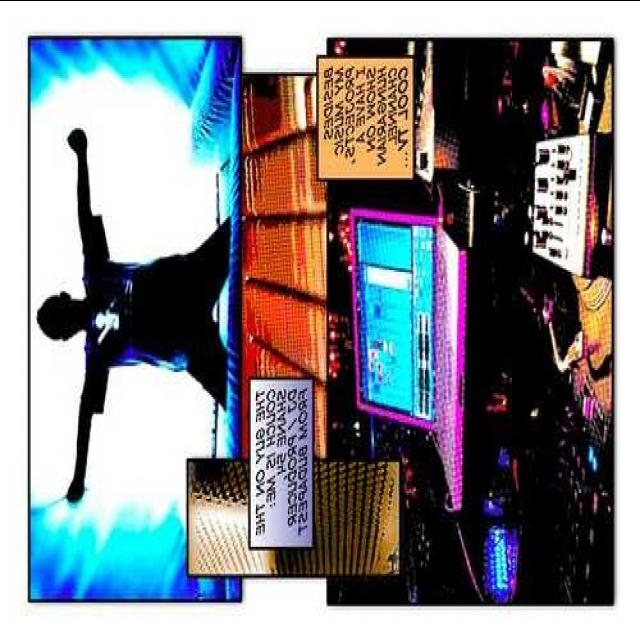laptop: (344, 200, 470, 454)
